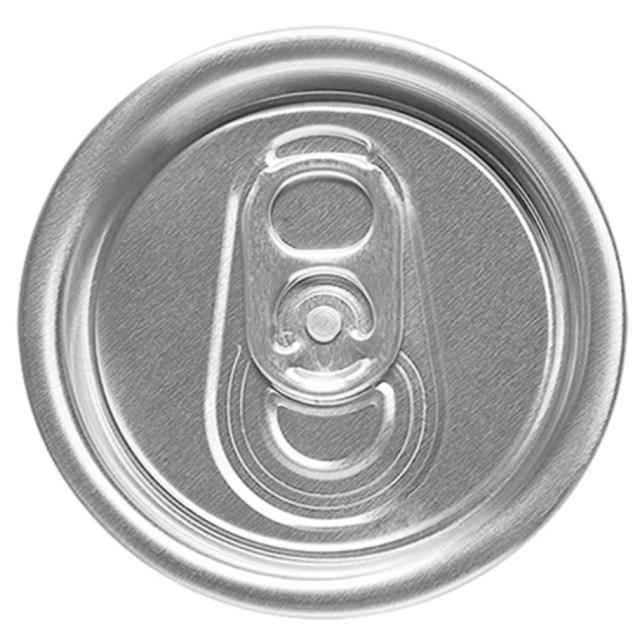recyclable: (12, 27, 640, 640)
